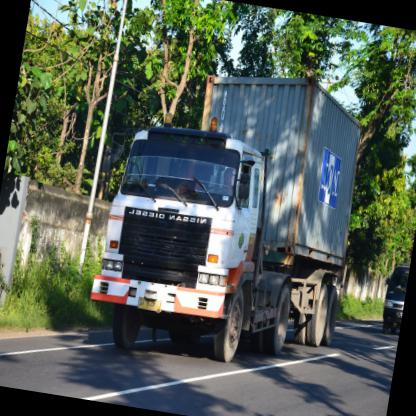truck: (82, 115, 273, 371)
